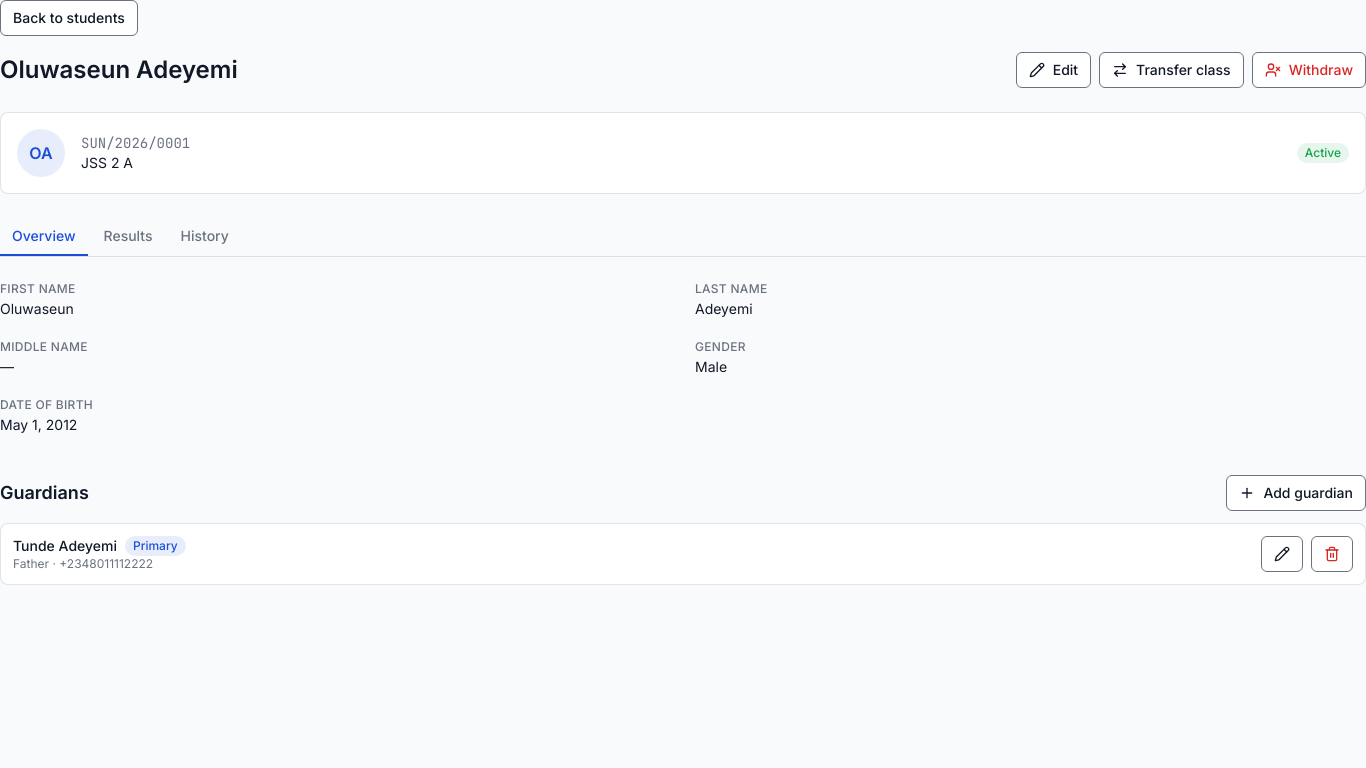
Scenario: StudentDetailPage — RBAC › SCHOOL_ADMIN: withdraw confirm button stays disabled until the surname is typed exactly
This screenshot has width=1366, height=768.
Expected: the heading "Oluwaseun Adeyemi" is shown, [0, 54, 238, 86]
Click the button "Withdraw".
click(1309, 70)  # box [1252, 52, 1365, 88]
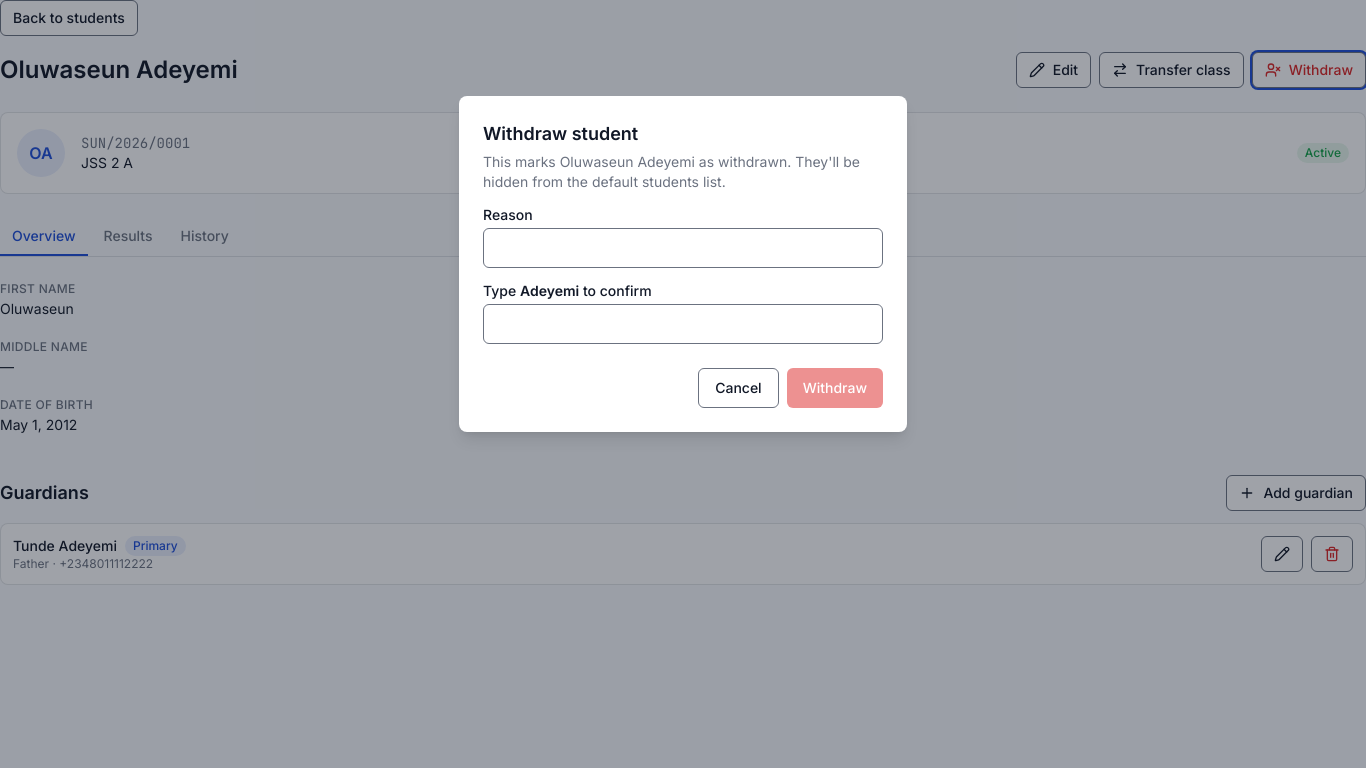
Now the dialog "Withdraw student" is shown, box [459, 96, 907, 432]
Type "Relocated" into the field labelled "Reason".
click(683, 248); type("Relocated")  # box [483, 228, 883, 268]
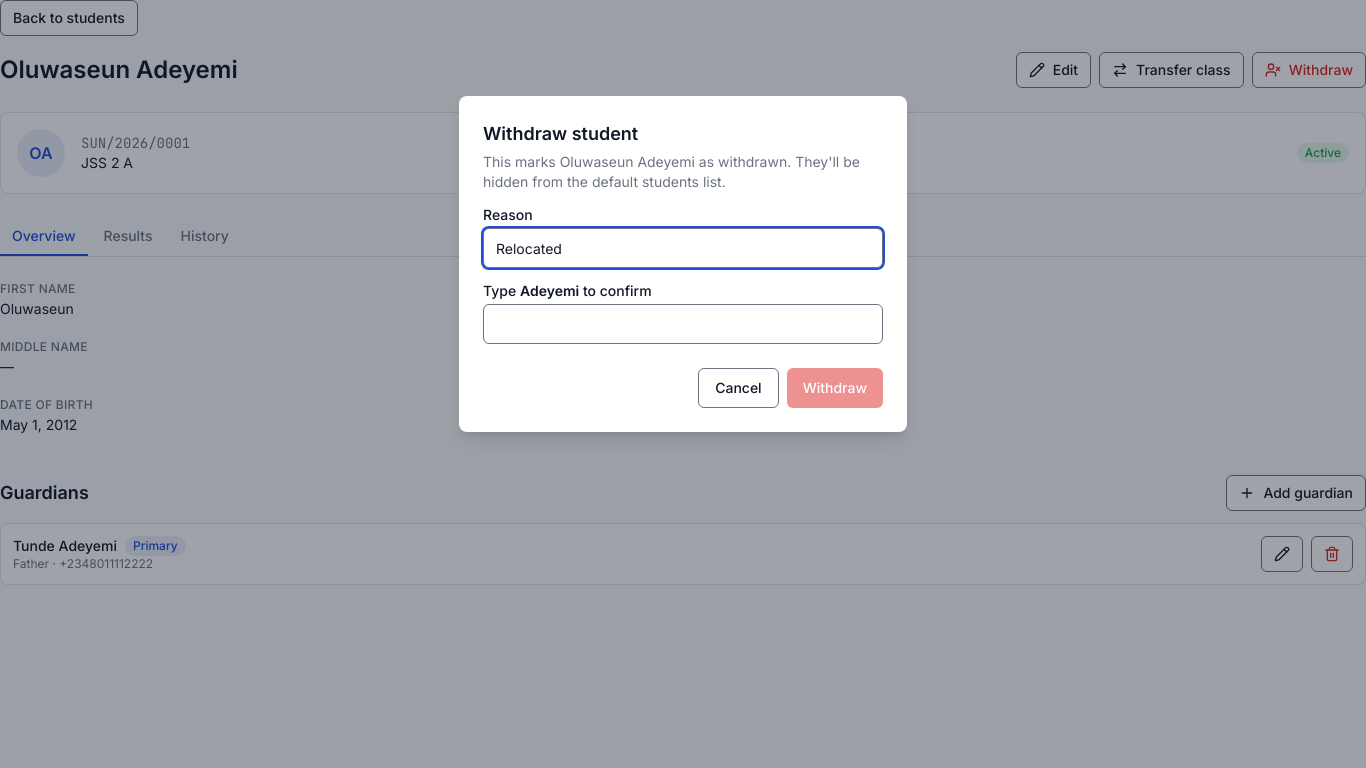
Now the button "Withdraw" is disabled, box [787, 368, 883, 408]
Type "Wrong" into the field labelled "Type Adeyemi to confirm".
click(683, 324); type("Wrong")  # box [483, 304, 883, 344]
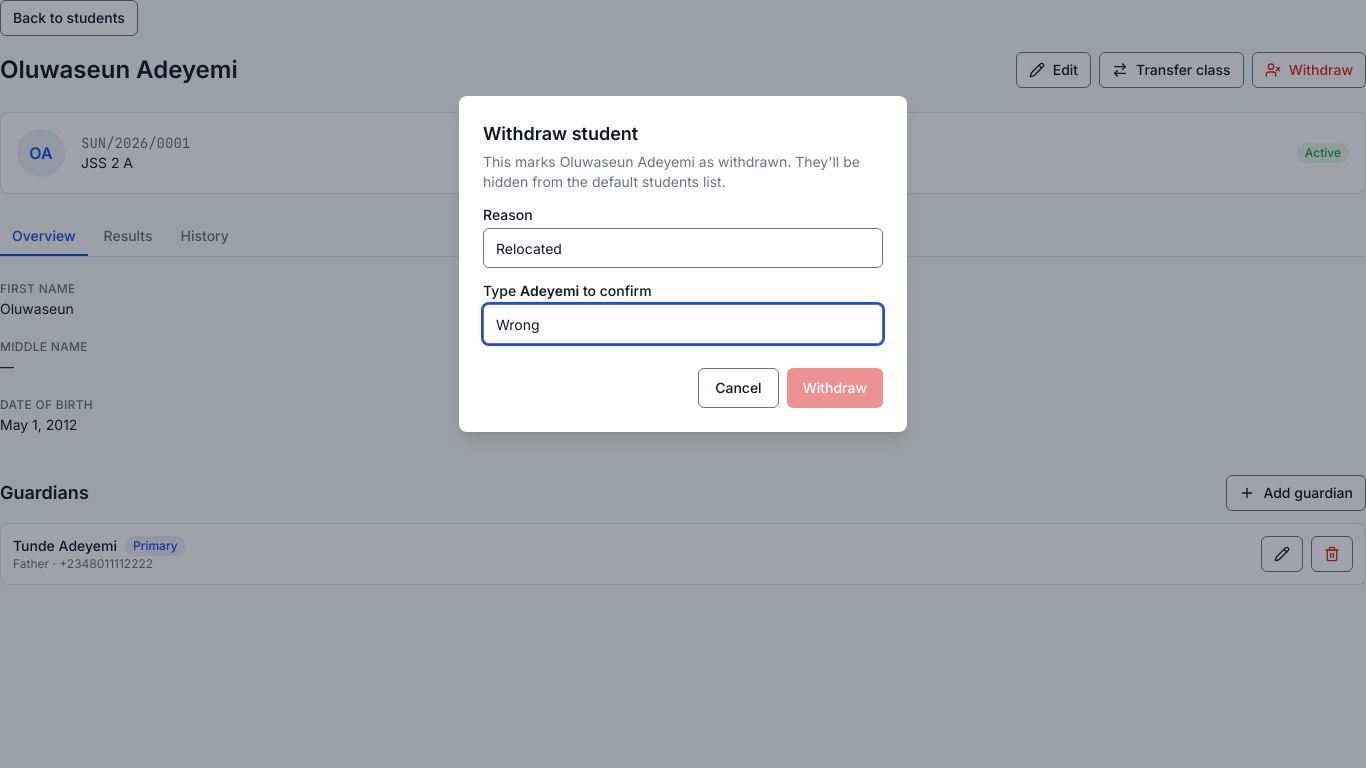
Now the button "Withdraw" is disabled, box [787, 368, 883, 408]
Replace the text in the field labelled "Type Adeyemi to confirm" with "Adeyemi" at coordinates (683, 324), box [483, 304, 883, 344]
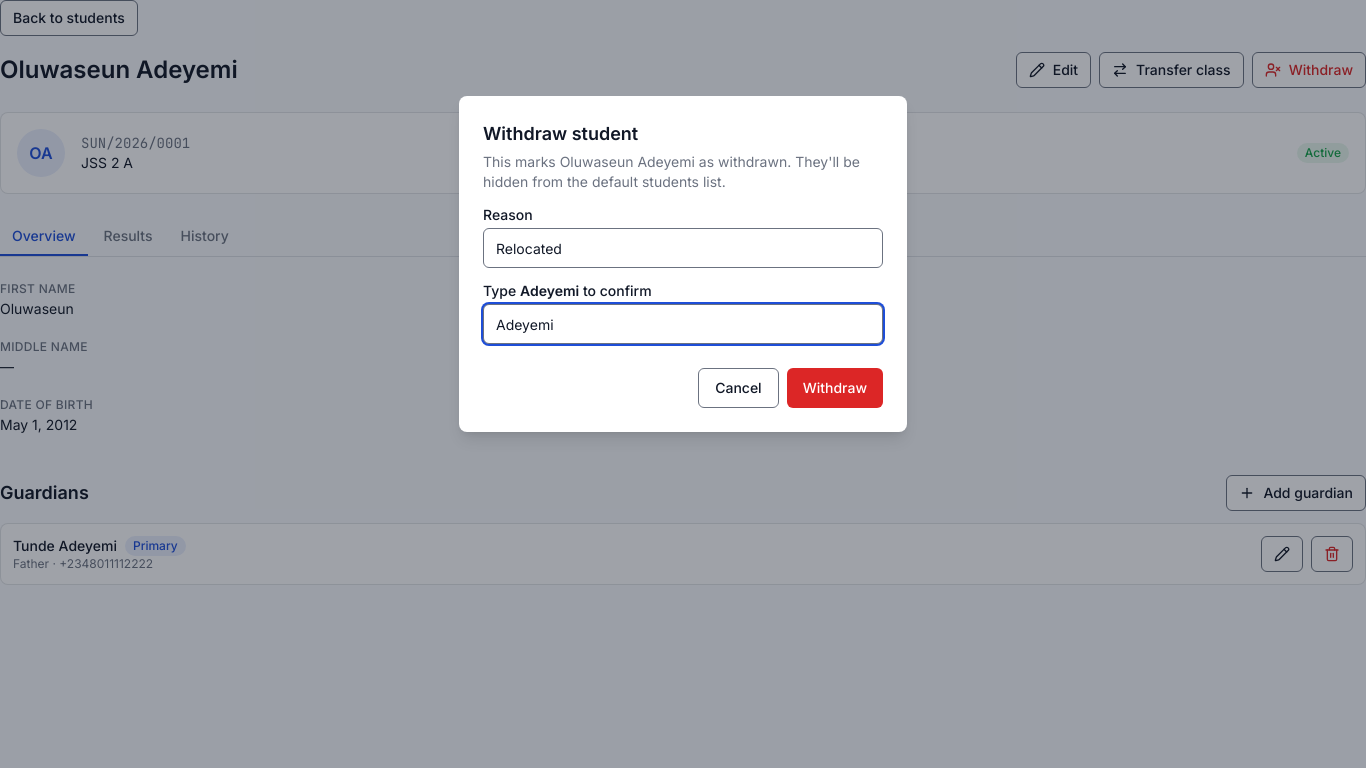
Now the button "Withdraw" is enabled, box [787, 368, 883, 408]
